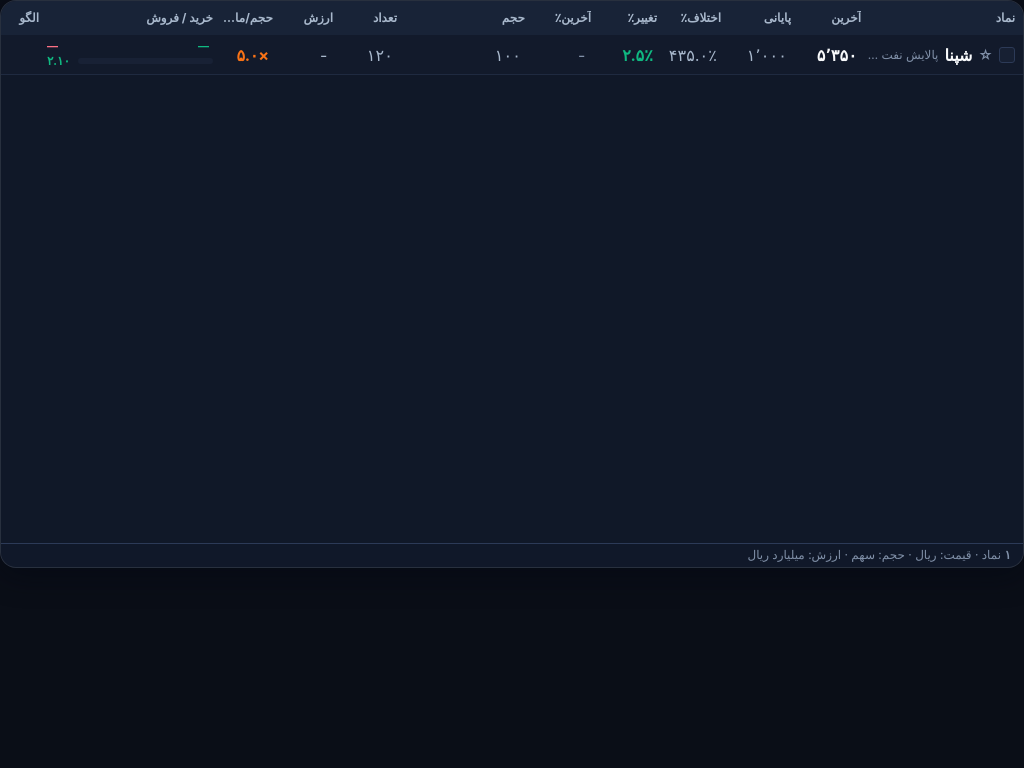
جدول تابلو نسخه بهبود یافته › ستون ها با کلیک سرصفحه برعکس می شوند
The image size is (1024, 768).
«پایانی» یکتا است؛ «آخرین» دو سرصفحه دارد (آخرین و آخرین٪)
Click the button "پایانی" at (758, 18), box [725,11,791,25]
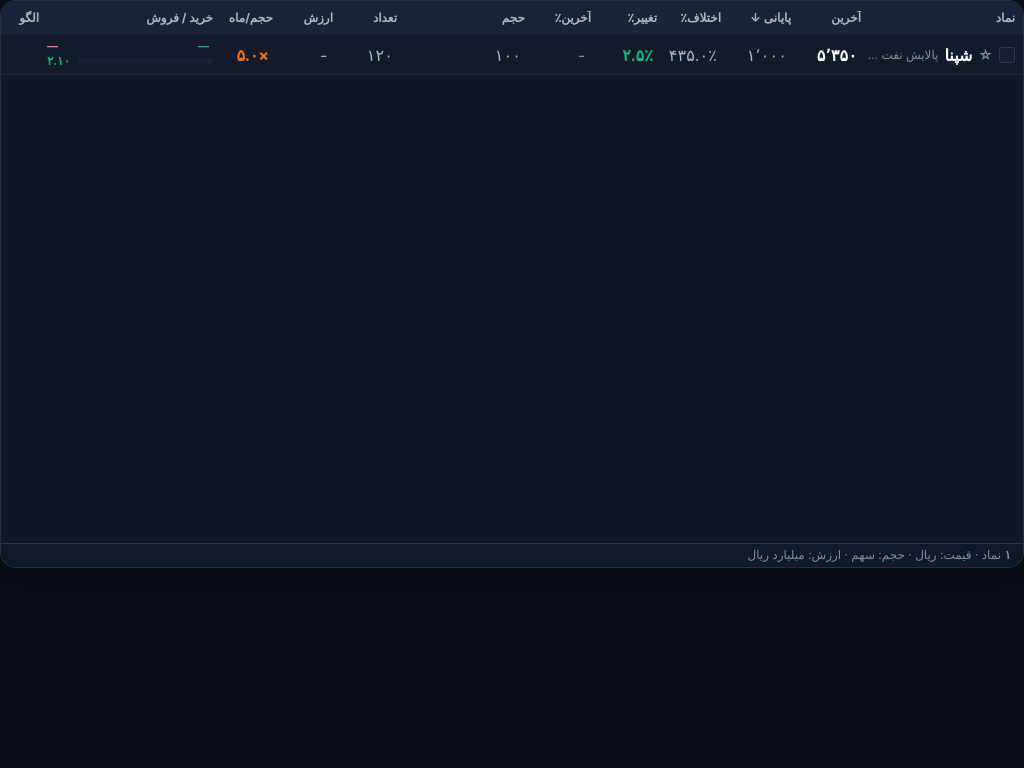
Check: the button "پایانی ↓" is shown, box [725,11,791,25]
